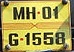character: (13, 6, 25, 20), (25, 6, 36, 20), (8, 32, 18, 46), (55, 31, 65, 45), (43, 32, 53, 45), (42, 6, 51, 19), (32, 32, 41, 45), (52, 5, 58, 19), (24, 32, 30, 45)
